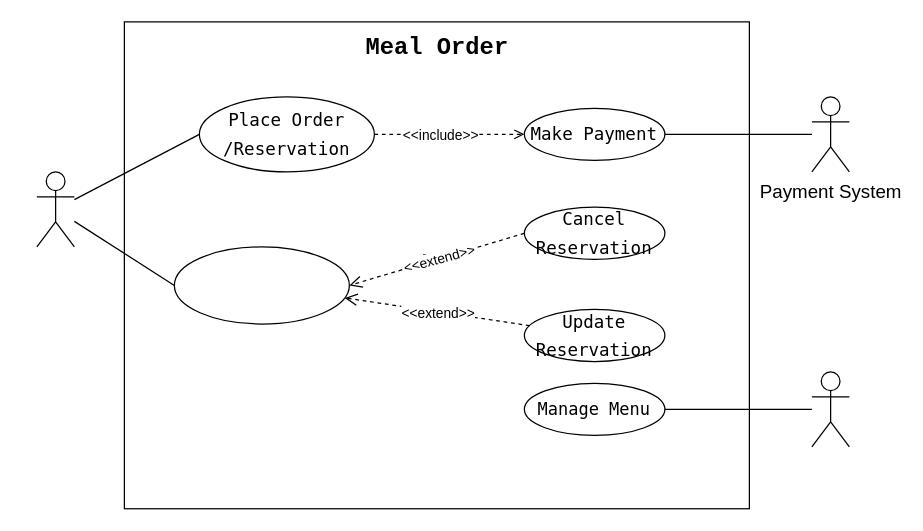
This 923x531 diagram has some shape labels left out. The centre of each missing label's shape, as x and y in pixels:
"Manage Reservations" goes at pixel 261 285.
"Merchant" goes at pixel 830 409.
"Student" goes at pixel 55 209.
